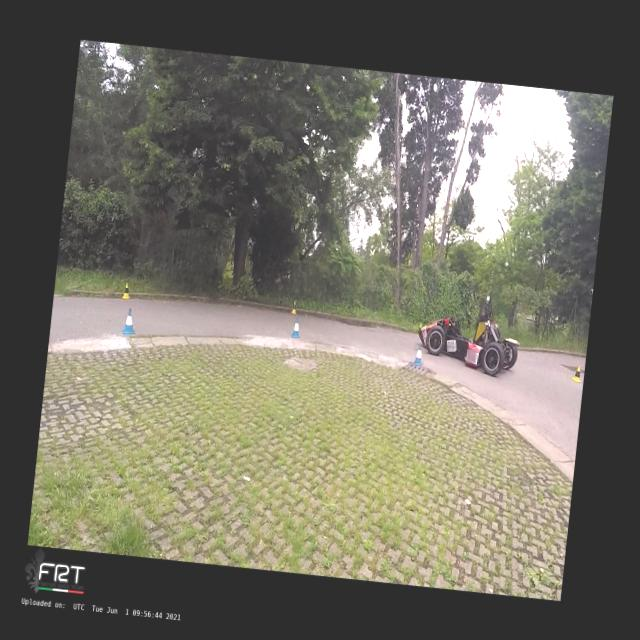blue_cone: (121, 308, 137, 334), (290, 318, 301, 338), (413, 346, 424, 366)
yellow_cone: (571, 364, 583, 383), (122, 282, 132, 298), (290, 300, 297, 314), (416, 322, 422, 336)
